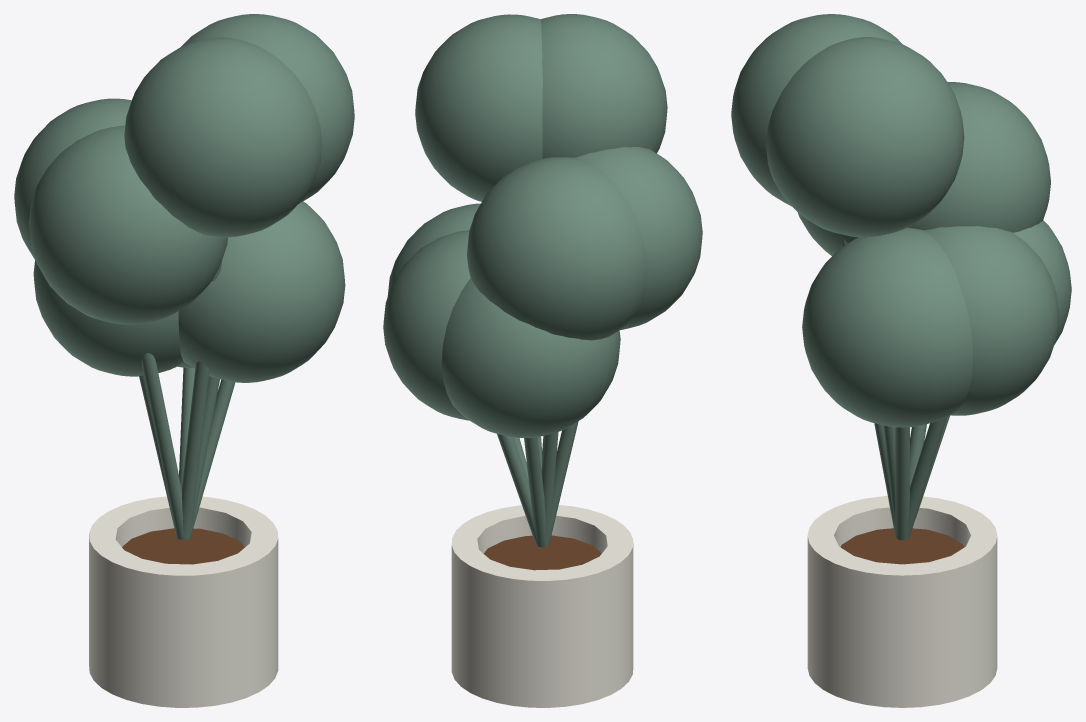
Rendered from bedroom-planter.gltf.
The picture shows the model from 3 angles, left to right: view 1: azimuth 30°, elevation 25°; view 2: azimuth 150°, elevation 25°; view 3: azimuth 270°, elevation 25°; orthographic projection. The views are drawn at different scales.
Parts seen in each view (by area): view 1: Bedroom potted greenery, Bedroom potted greenery leaf 2, Bedroom potted greenery leaf 4, Bedroom potted greenery leaf 0, Bedroom potted greenery leaf 5, Bedroom potted greenery leaf 6, Bedroom potted greenery leaf 1, Bedroom potted greenery soil, Bedroom potted greenery stem 4, Bedroom potted greenery stem 2, Bedroom potted greenery stem 0, Bedroom potted greenery stem 5 (+1 smaller); view 2: Bedroom potted greenery, Bedroom potted greenery leaf 1, Bedroom potted greenery leaf 5, Bedroom potted greenery leaf 6, Bedroom potted greenery leaf 2, Bedroom potted greenery leaf 4, Bedroom potted greenery leaf 3, Bedroom potted greenery soil, Bedroom potted greenery leaf 0, Bedroom potted greenery stem 6, Bedroom potted greenery stem 3, Bedroom potted greenery stem 4 (+1 smaller); view 3: Bedroom potted greenery, Bedroom potted greenery leaf 5, Bedroom potted greenery leaf 0, Bedroom potted greenery leaf 3, Bedroom potted greenery leaf 1, Bedroom potted greenery leaf 2, Bedroom potted greenery soil, Bedroom potted greenery leaf 6, Bedroom potted greenery stem 0, Bedroom potted greenery stem 3, Bedroom potted greenery leaf 4, Bedroom potted greenery stem 5 (+2 smaller).
Boxes of the visible parts, bbox=[...] form: Bedroom potted greenery: bbox=[89, 496, 278, 707]; Bedroom potted greenery leaf 2: bbox=[124, 37, 322, 237]; Bedroom potted greenery leaf 4: bbox=[29, 125, 227, 324]; Bedroom potted greenery leaf 0: bbox=[178, 201, 345, 382]; Bedroom potted greenery leaf 5: bbox=[181, 14, 354, 203]; Bedroom potted greenery leaf 6: bbox=[33, 260, 183, 376]; Bedroom potted greenery leaf 1: bbox=[14, 98, 131, 260]; Bedroom potted greenery soil: bbox=[122, 528, 244, 564]; Bedroom potted greenery stem 4: bbox=[141, 353, 184, 539]; Bedroom potted greenery stem 2: bbox=[181, 261, 221, 539]; Bedroom potted greenery stem 0: bbox=[189, 379, 235, 537]; Bedroom potted greenery stem 5: bbox=[190, 376, 219, 534]; Bedroom potted greenery: bbox=[451, 505, 633, 707]; Bedroom potted greenery leaf 1: bbox=[467, 157, 647, 340]; Bedroom potted greenery leaf 5: bbox=[415, 14, 542, 201]; Bedroom potted greenery leaf 6: bbox=[441, 278, 620, 437]; Bedroom potted greenery leaf 2: bbox=[541, 14, 667, 158]; Bedroom potted greenery leaf 4: bbox=[574, 147, 702, 329]; Bedroom potted greenery leaf 3: bbox=[383, 230, 470, 420]; Bedroom potted greenery soil: bbox=[483, 535, 601, 570]; Bedroom potted greenery leaf 0: bbox=[387, 203, 480, 296]; Bedroom potted greenery stem 6: bbox=[524, 437, 547, 547]; Bedroom potted greenery stem 3: bbox=[497, 434, 537, 546]; Bedroom potted greenery stem 4: bbox=[547, 421, 578, 545]; Bedroom potted greenery: bbox=[807, 496, 997, 707]; Bedroom potted greenery leaf 5: bbox=[766, 37, 964, 237]; Bedroom potted greenery leaf 0: bbox=[802, 227, 973, 427]; Bedroom potted greenery leaf 3: bbox=[924, 226, 1059, 415]; Bedroom potted greenery leaf 1: bbox=[907, 82, 1050, 232]; Bedroom potted greenery leaf 2: bbox=[731, 14, 902, 206]; Bedroom potted greenery soil: bbox=[840, 528, 964, 564]; Bedroom potted greenery leaf 6: bbox=[1013, 220, 1071, 344]; Bedroom potted greenery stem 0: bbox=[895, 427, 909, 540]; Bedroom potted greenery stem 3: bbox=[904, 417, 946, 539]; Bedroom potted greenery leaf 4: bbox=[798, 213, 857, 255]; Bedroom potted greenery stem 5: bbox=[863, 237, 895, 534].
Size of the model in its own units: 0.2343 by 0.4887 by 0.2332.
